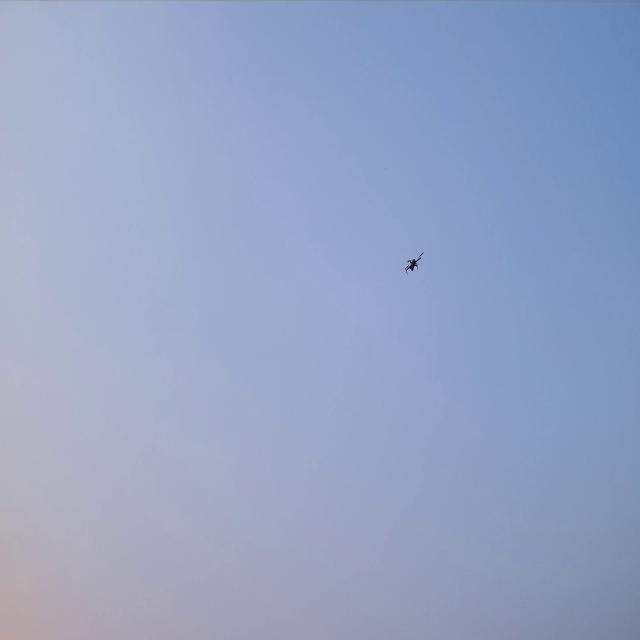UAV: (403, 250, 425, 276)
